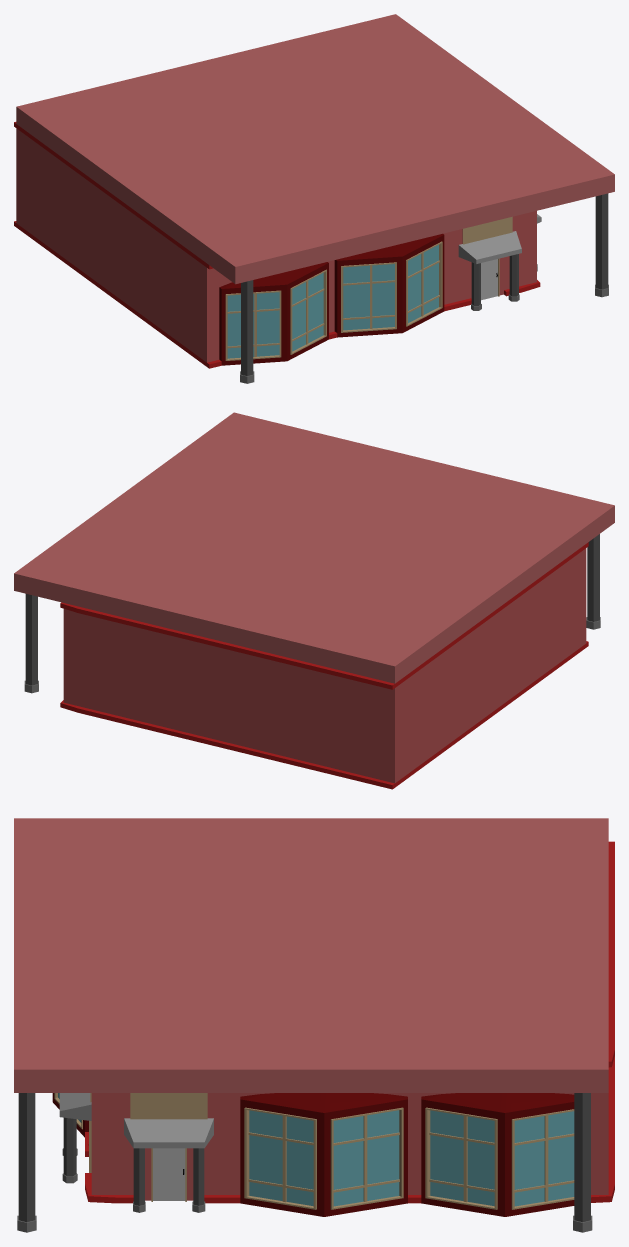
The model's file is Building_16.fbx.
3 renders of one model, top to bottom at view 1: azimuth 30°, elevation 25°; view 2: azimuth 150°, elevation 25°; view 3: azimuth 270°, elevation 25°, orthographic. The views are drawn at different scales.
Parts seen in each view (by area): view 1: pCube52; view 2: pCube52; view 3: pCube52.
Part boxes in pixels (bbox=[...]): pCube52: bbox=[14, 14, 614, 383]; pCube52: bbox=[14, 412, 614, 789]; pCube52: bbox=[14, 818, 614, 1232].
Size of the model in its own units: 23 by 7 by 23.25.
